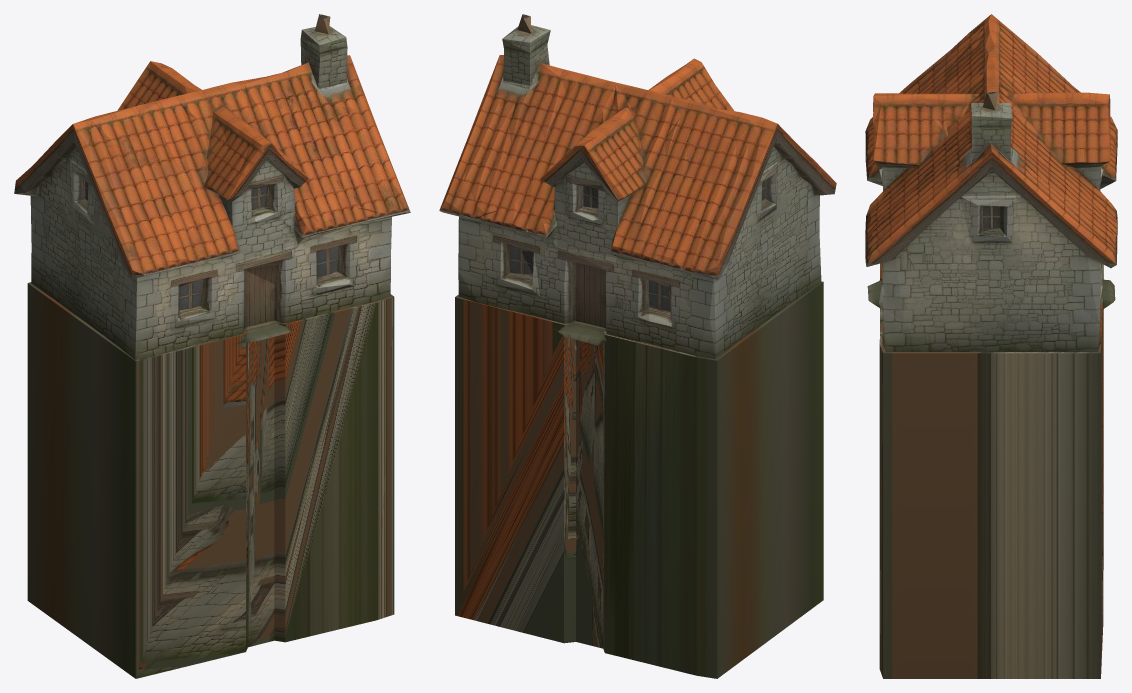
Rendered from cottage_a.glb.
The picture shows the model from 3 angles, left to right: view 1: azimuth 30°, elevation 25°; view 2: azimuth 150°, elevation 25°; view 3: azimuth 270°, elevation 25°; orthographic projection. The views are drawn at different scales.
Visible parts, largest first — view 1: cottage_a_export; view 2: cottage_a_export; view 3: cottage_a_export.
Part boxes in pixels (left/top/right/bottom): cottage_a_export: left=14, top=14, right=410, bottom=678; cottage_a_export: left=439, top=14, right=836, bottom=678; cottage_a_export: left=865, top=14, right=1117, bottom=678.
Size of the model in its own units: 17 by 32.99 by 13.06.
Materials: 2 (2 with a texture image).
